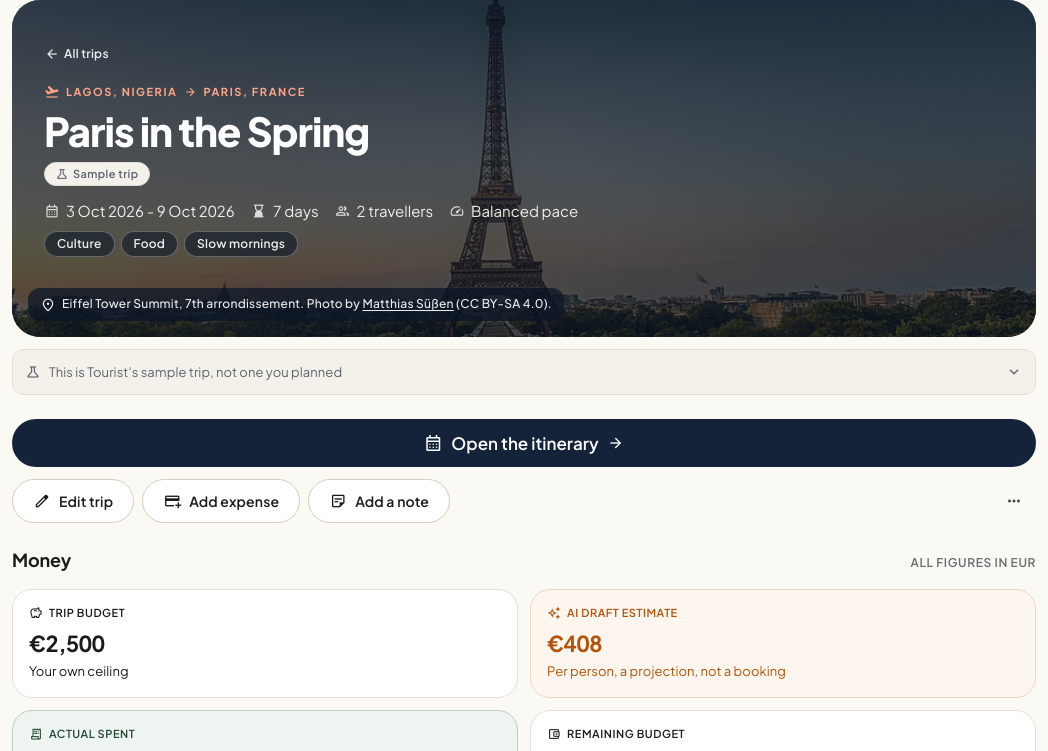
Test: TripOverviewPage › marking the sample trip › says so on the overview of the demo trip, and explains what that means
Expected: the text "Sample trip" is shown, [44,162,150,186]
Click the text "This is Tourist's sample trip, not one you planned": (196, 372) [49,364,342,380]
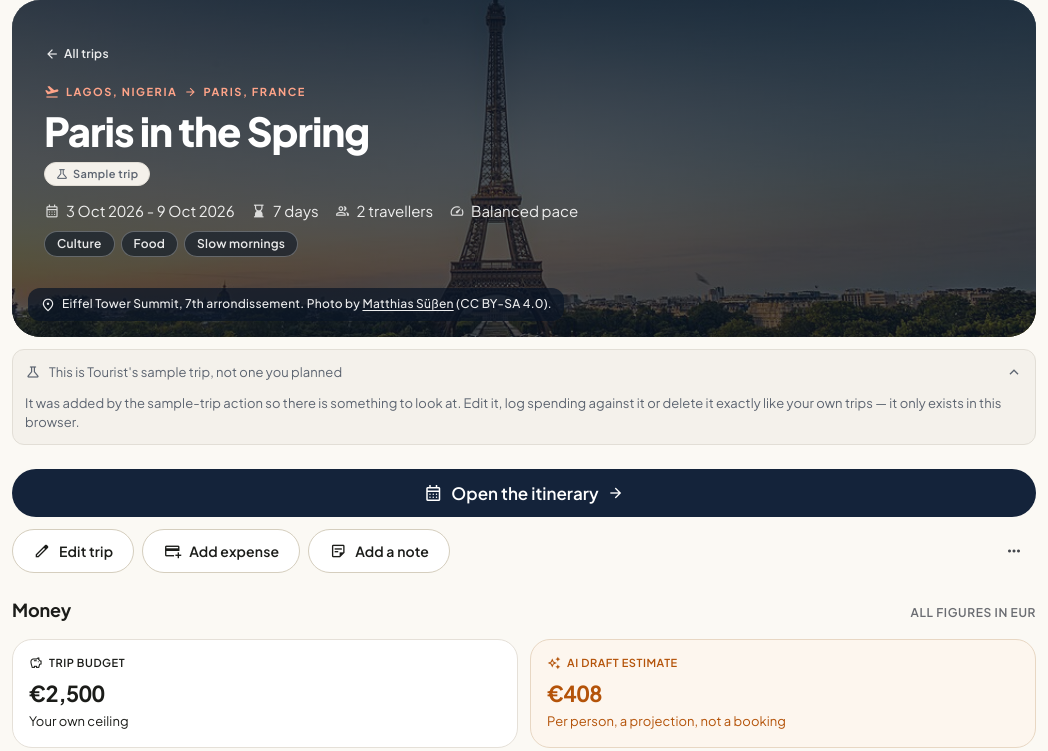
Expected: the text "it only exists in this browser" is shown, [25,395,1001,430]
